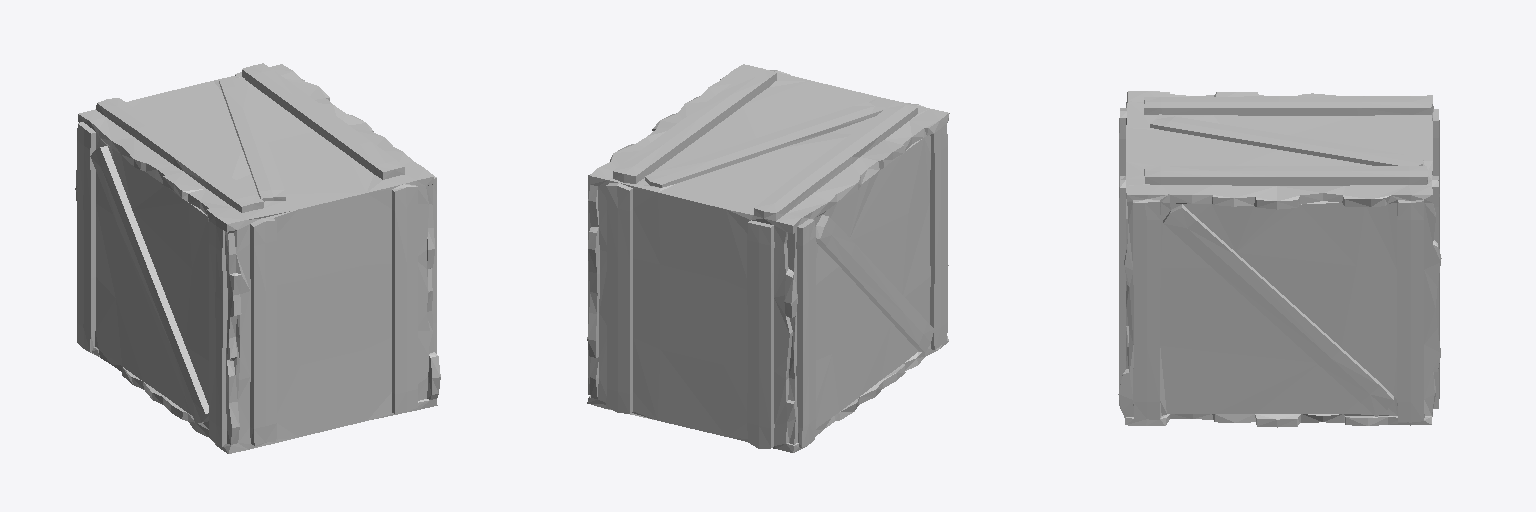
File: IronStorage.obj
3 renders of one model, left to right at view 1: azimuth 30°, elevation 25°; view 2: azimuth 150°, elevation 25°; view 3: azimuth 270°, elevation 25°, orthographic.
Parts seen in each view (by area): view 1: box2; view 2: box2; view 3: box2.
Part boxes in pixels (x1,y1,x2,y2): box2: (75, 63, 440, 453); box2: (587, 64, 949, 452); box2: (1118, 91, 1441, 427).
Size of the model in its own units: 0.2637 by 0.2757 by 0.3381.